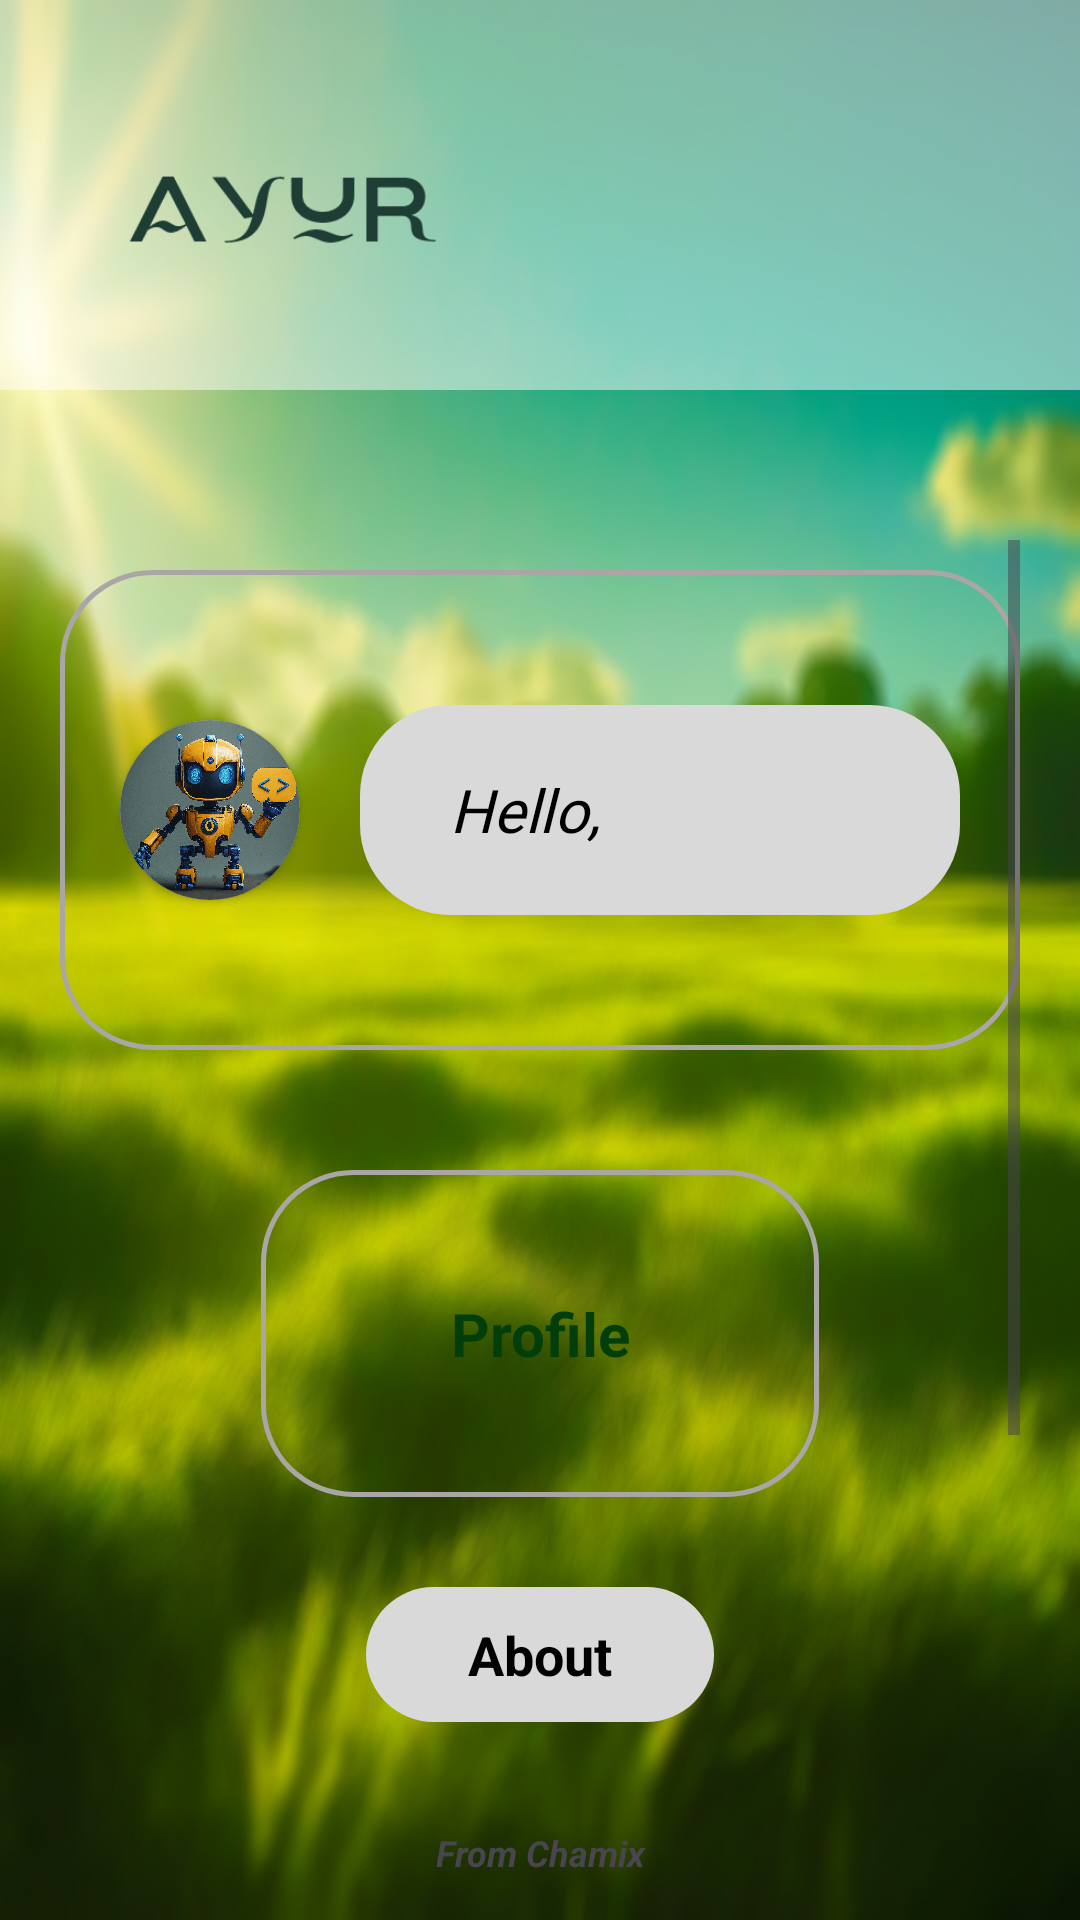

Where to tap for icons on this 1080px×1920px app screen, as (x=x, y=y):
user: (x=210, y=810)
